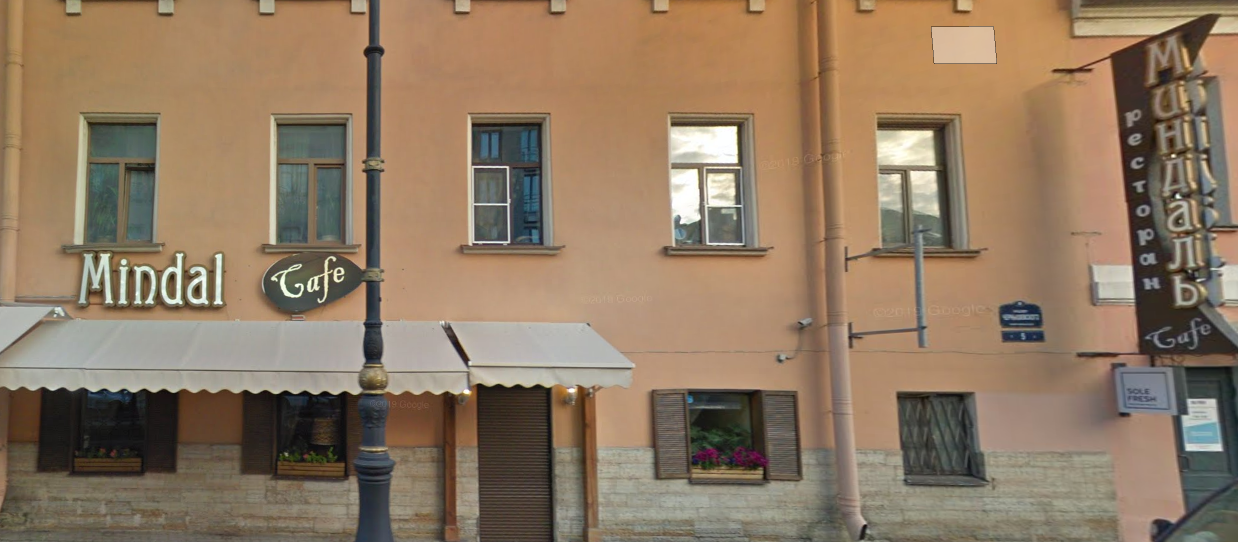cantilever: (1056, 13, 1238, 354), (1110, 356, 1185, 420)
signboard: (73, 243, 370, 323)
window: (665, 118, 750, 245), (880, 120, 956, 248), (79, 123, 157, 247), (474, 119, 546, 249), (272, 122, 343, 245)
